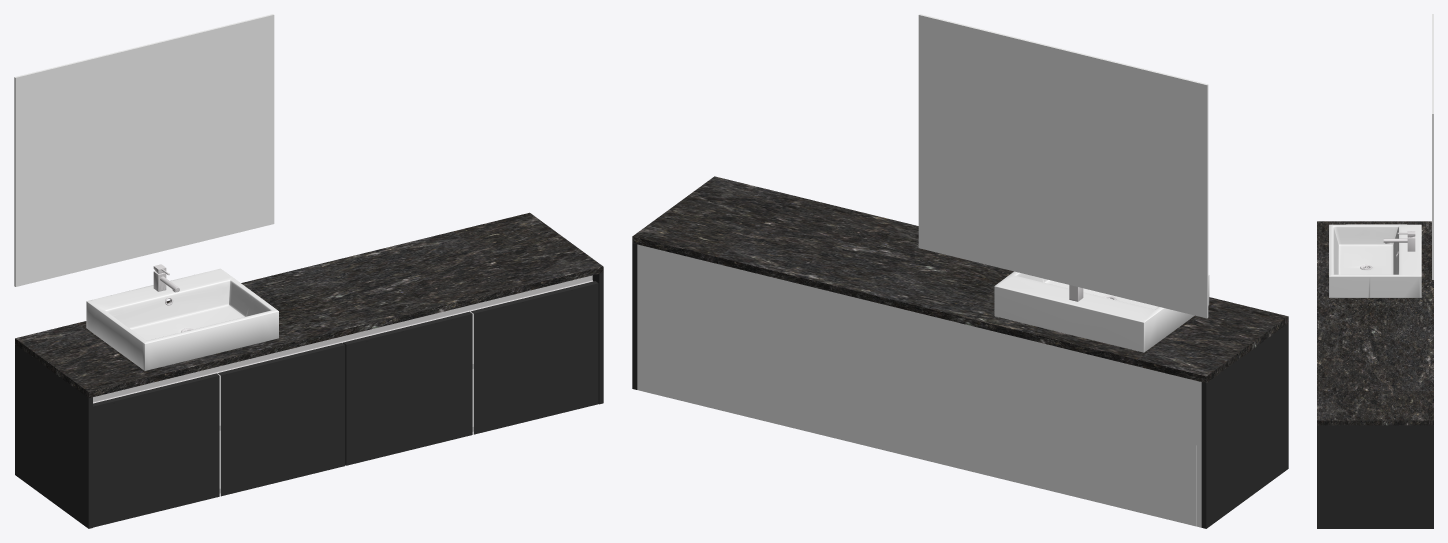
File: HELA-final.glb
3 renders of one model, left to right at view 1: azimuth 30°, elevation 25°; view 2: azimuth 150°, elevation 25°; view 3: azimuth 270°, elevation 25°, orthographic. The views are drawn at different scales.
Parts seen in each view (by area): view 1: HELA; view 2: HELA; view 3: HELA.
Boxes of the visible parts, box(x1,y1,x2,y2) form: HELA: box(14, 14, 603, 528); HELA: box(632, 14, 1288, 528); HELA: box(1317, 14, 1433, 528).
Bounding box in the file's own units: 1.77 × 1.31 × 0.4387.
7 materials, 2 textured.
